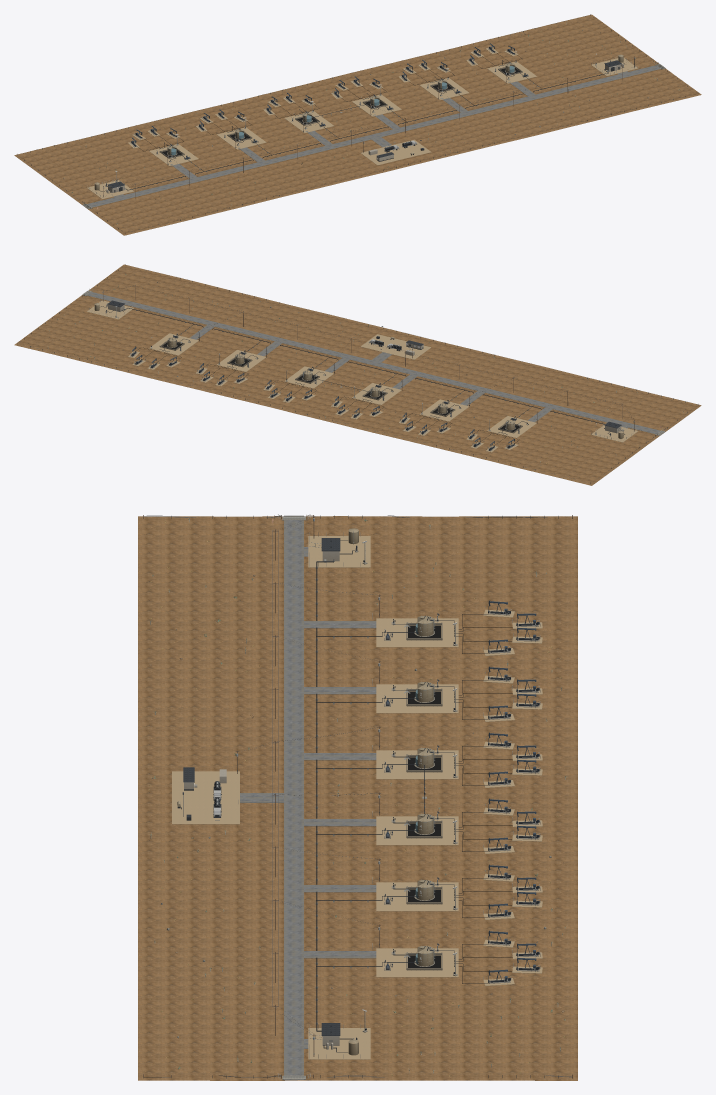
Rendered from field.glb.
3 renders of one model, top to bottom at view 1: azimuth 30°, elevation 25°; view 2: azimuth 150°, elevation 25°; view 3: azimuth 270°, elevation 25°, orthographic. The views are drawn at different scales.
Parts seen in each view (by area): view 1: SITE_ground, SITE_road, YARD_1_gravel, PAD_1_gravel, PAD_5_gravel, PAD_2_gravel, PAD_4_gravel, PAD_6_gravel, PAD_3_gravel, SWD_1_gravel, SWD_2_gravel; view 2: SITE_ground, SITE_road, YARD_1_gravel, PAD_2_gravel, PAD_4_gravel, PAD_5_gravel, PAD_1_gravel, PAD_6_gravel, PAD_3_gravel, SWD_2_gravel, SWD_1_gravel; view 3: SITE_ground, SITE_road, YARD_1_gravel, PAD_5_gravel, PAD_2_gravel, PAD_4_gravel, PAD_6_gravel, PAD_1_gravel, PAD_3_gravel, SWD_2_gravel, SWD_1_gravel, SITE_power_wire.
Part boxes in pixels (x1,y1,x2,y2): SITE_ground: (14,14,701,235); SITE_road: (95,67,652,205); YARD_1_gravel: (361,139,431,165); PAD_1_gravel: (149,144,198,166); PAD_5_gravel: (419,78,468,100); PAD_2_gravel: (217,127,266,149); PAD_4_gravel: (352,94,401,116); PAD_6_gravel: (487,62,536,83); PAD_3_gravel: (284,111,333,132); SWD_1_gravel: (87,180,133,199); SWD_2_gravel: (591,58,638,76); SITE_ground: (14,264,701,485); SITE_road: (95,294,652,432); YARD_1_gravel: (360,334,431,359); PAD_2_gravel: (419,399,469,421); PAD_4_gravel: (284,366,333,388); PAD_5_gravel: (217,350,266,371); PAD_1_gravel: (487,416,536,437); PAD_6_gravel: (149,333,198,355); PAD_3_gravel: (352,383,401,404); SWD_2_gravel: (87,300,133,319); SWD_1_gravel: (591,425,637,442); SITE_ground: (138,516,577,1080); SITE_road: (240,527,376,1067); YARD_1_gravel: (172,771,239,824); PAD_5_gravel: (376,882,458,911); PAD_2_gravel: (376,684,458,713); PAD_4_gravel: (376,816,458,845); PAD_6_gravel: (376,948,458,977); PAD_1_gravel: (376,618,458,647); PAD_3_gravel: (376,750,458,779); SWD_2_gravel: (308,1028,370,1059); SWD_1_gravel: (308,536,370,567); SITE_power_wire: (238,517,380,1020).
Bounding box in the file's own units: 470 × 13.14 × 155.
44 materials, 31 textured.
